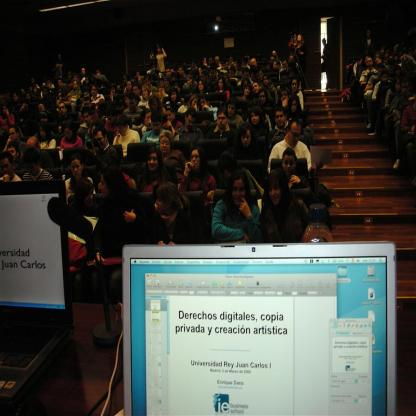board: (0, 180, 79, 402)
